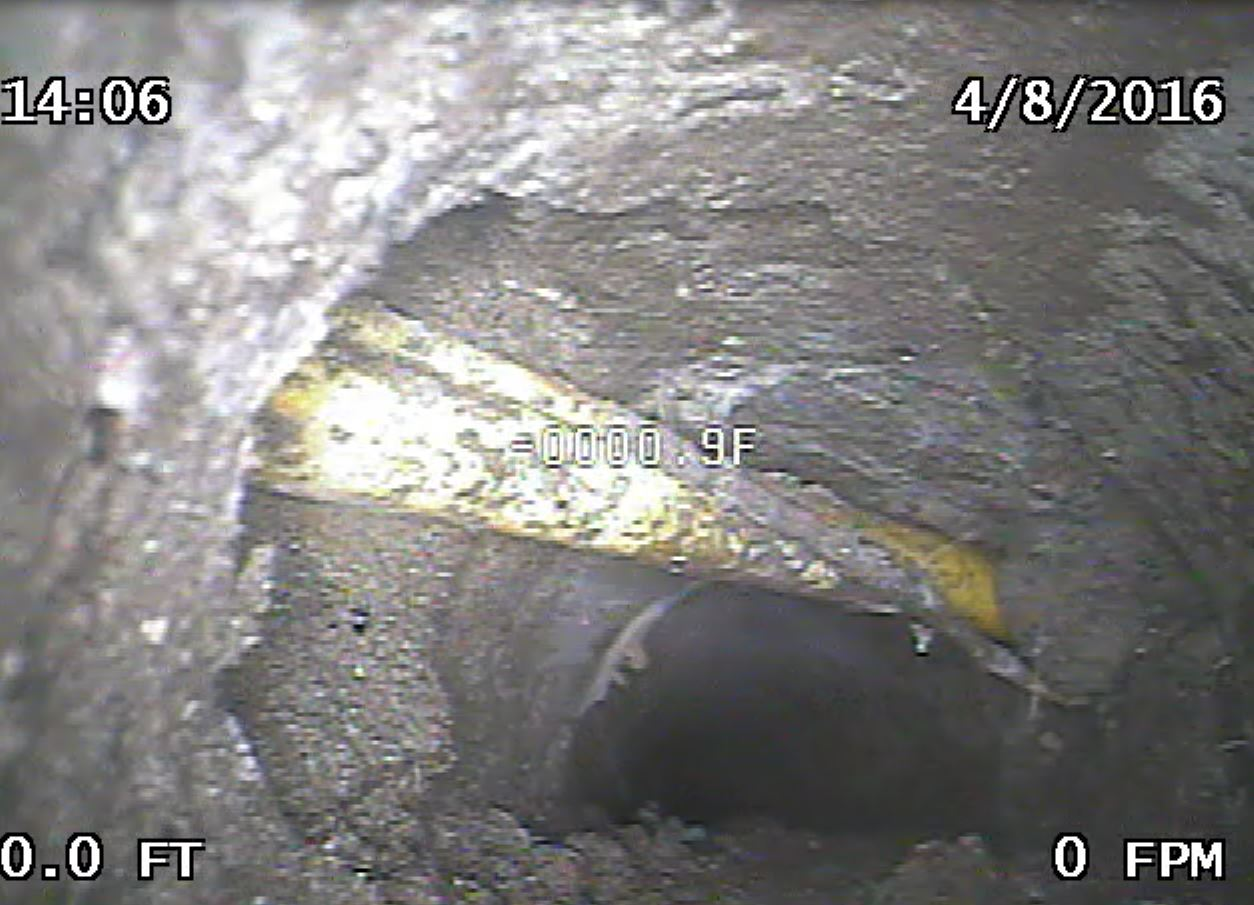cb: (211, 277, 1024, 658)
